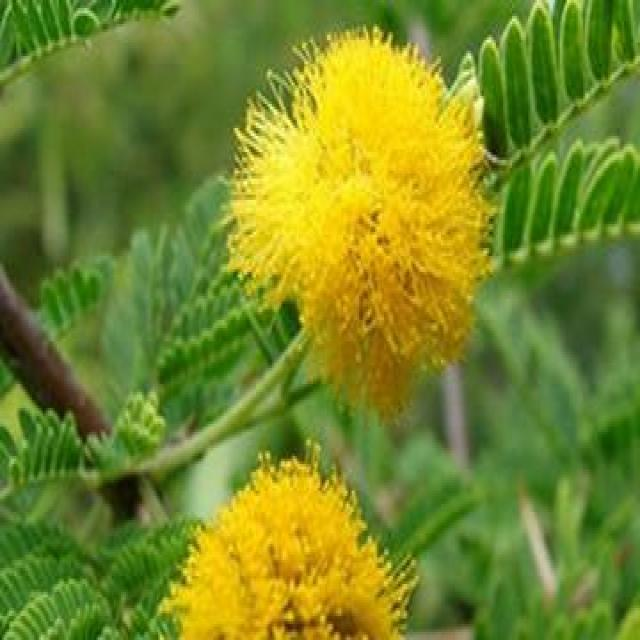organic waste: (237, 46, 499, 390), (153, 457, 419, 639)
